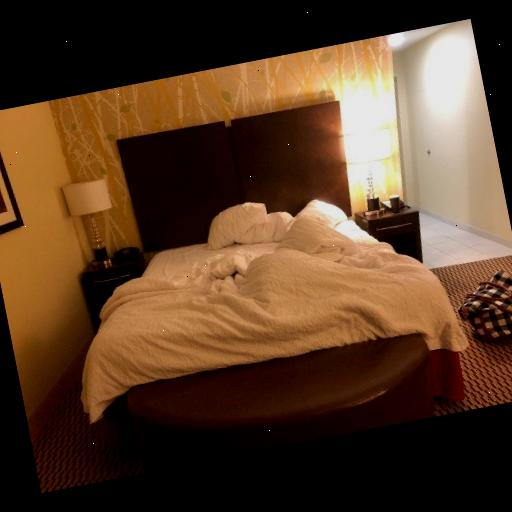Disorganized_pillow: (174, 186, 330, 300)
lamp: (58, 170, 128, 285)
messy_bed: (85, 100, 468, 425)
